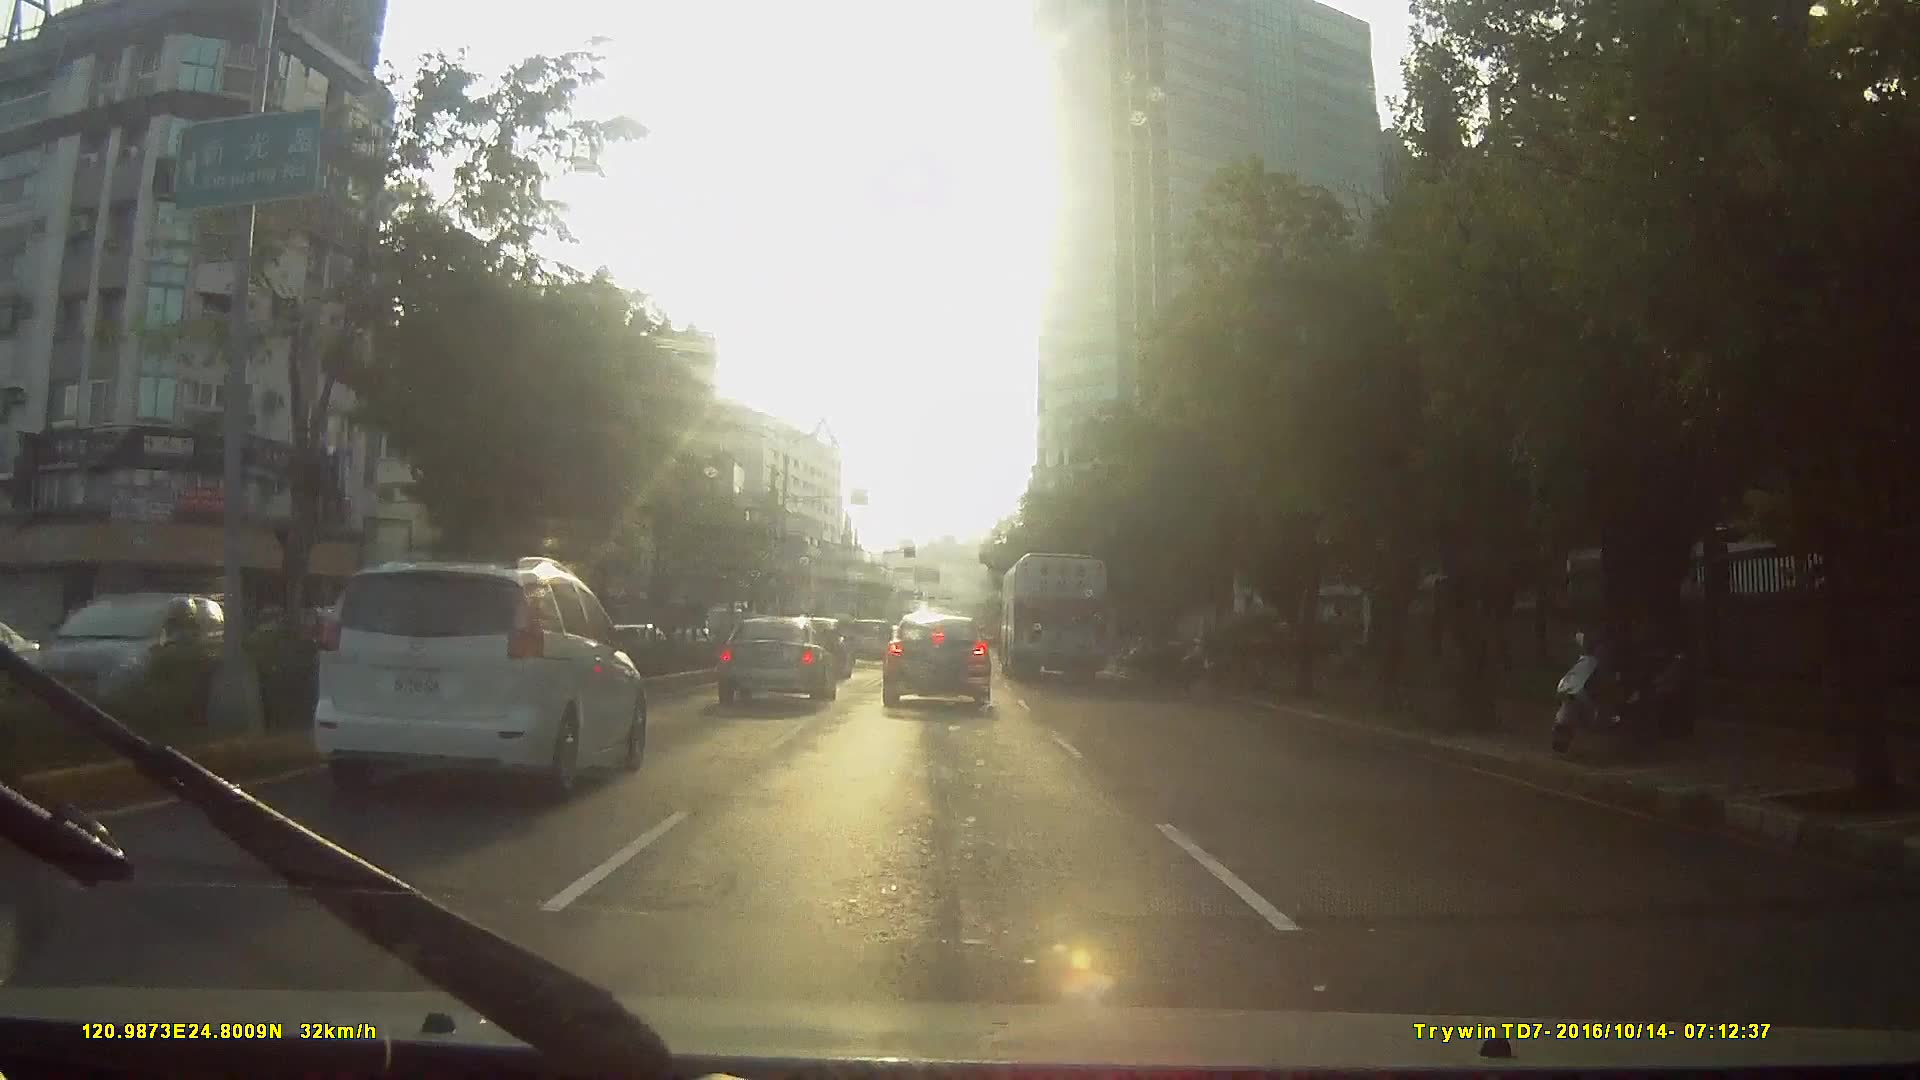vehicle: (251, 556, 684, 868), (302, 556, 645, 808), (20, 593, 247, 745), (1004, 551, 1113, 684), (880, 613, 993, 717), (713, 616, 837, 711), (847, 620, 895, 669)
